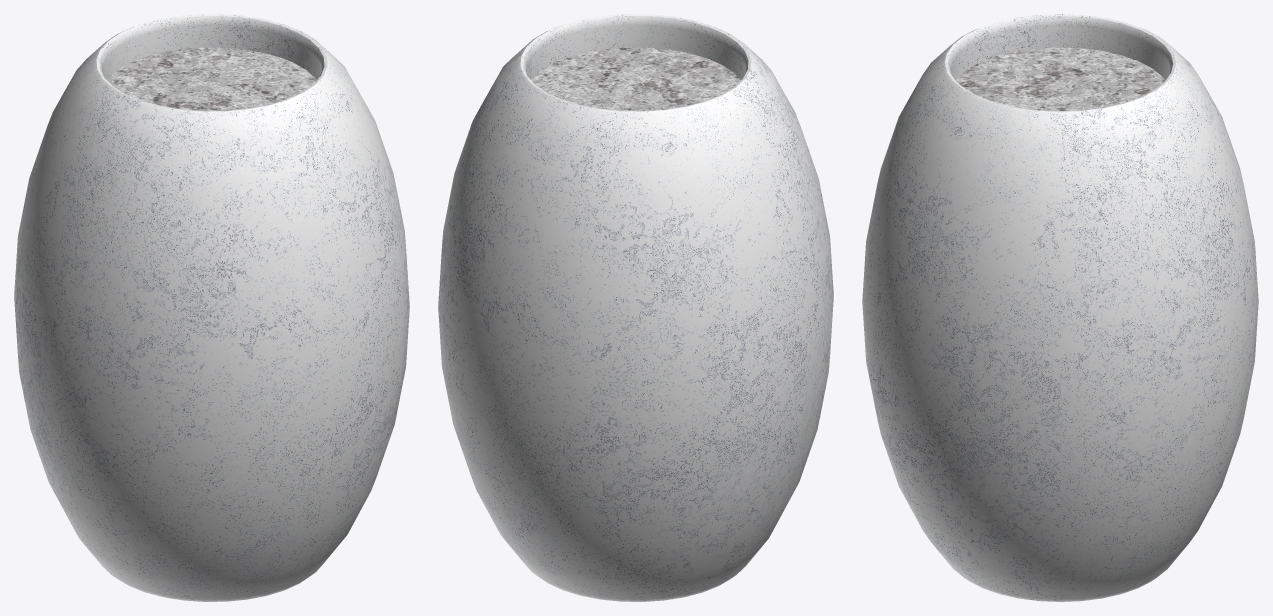
File: Pot_B3.fbx
3 views of the same model, side by side, from view 1: azimuth 30°, elevation 25°; view 2: azimuth 150°, elevation 25°; view 3: azimuth 270°, elevation 25° (orthographic).
Visible parts, largest first — view 1: Pot_B3; view 2: Pot_B3; view 3: Pot_B3.
Part boxes in pixels (bbox=[...]): Pot_B3: bbox=[14, 14, 409, 601]; Pot_B3: bbox=[438, 14, 833, 601]; Pot_B3: bbox=[862, 14, 1258, 601].
Size of the model in its own units: 0.1265 by 0.1742 by 0.1265.
